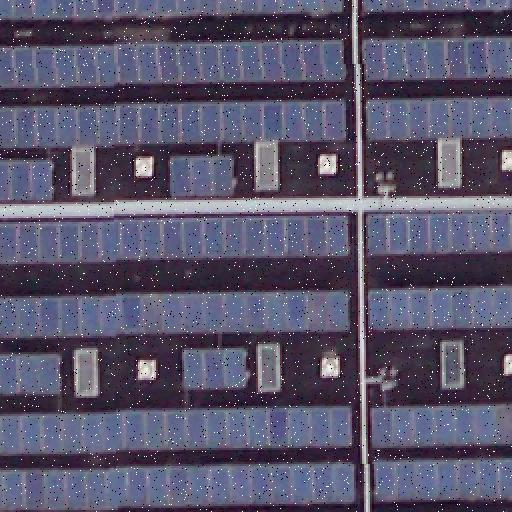solar-panel: (0, 39, 344, 89), (0, 460, 356, 508), (0, 406, 352, 454), (1, 288, 351, 336), (0, 100, 346, 148), (0, 217, 348, 263), (1, 0, 343, 20), (364, 97, 512, 143), (364, 37, 512, 83), (368, 209, 512, 255), (368, 284, 512, 328), (369, 402, 511, 446), (372, 456, 512, 500), (168, 154, 232, 198), (179, 348, 245, 388), (0, 350, 58, 394), (0, 160, 52, 200), (361, 0, 511, 12)
